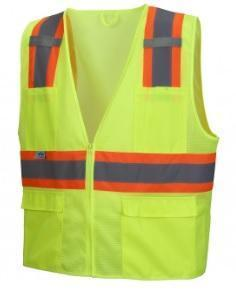vest: (17, 3, 218, 282)
